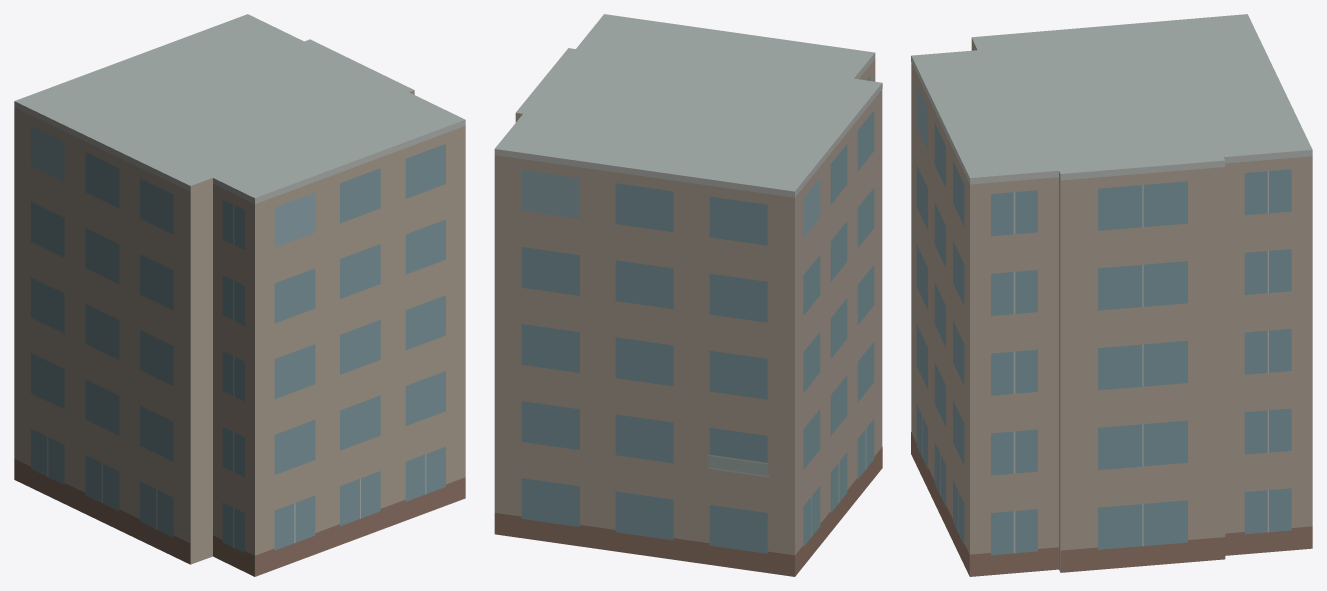
The model's file is survey-upis-32646339.glb.
3 renders of one model, left to right at view 1: azimuth 30°, elevation 25°; view 2: azimuth 150°, elevation 25°; view 3: azimuth 270°, elevation 25°, orthographic. The views are drawn at different scales.
Visible parts, largest first — view 1: survey-upis-32646339.tmp; view 2: survey-upis-32646339.tmp; view 3: survey-upis-32646339.tmp.
Part boxes in pixels (bbox=[...]): survey-upis-32646339.tmp: bbox=[14, 14, 465, 576]; survey-upis-32646339.tmp: bbox=[494, 14, 882, 576]; survey-upis-32646339.tmp: bbox=[911, 14, 1312, 576].
Size of the model in its own units: 13.47 by 15.25 by 13.92.
